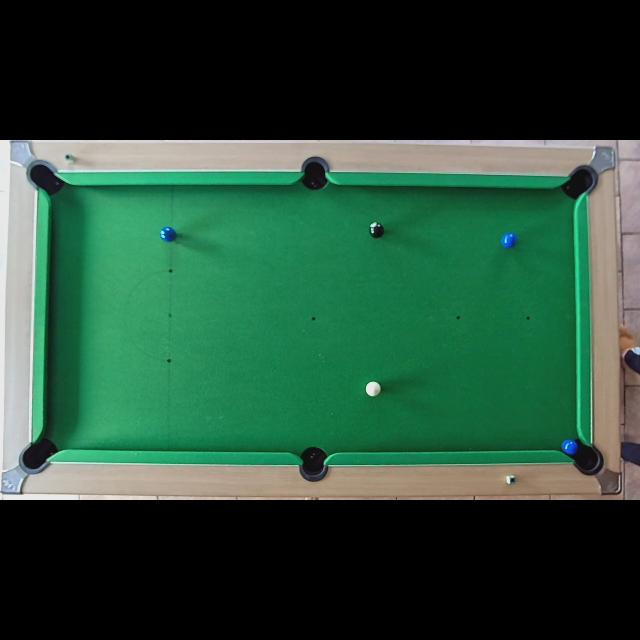Ball: (562, 439, 578, 456), (160, 226, 177, 242), (365, 381, 381, 397), (368, 222, 384, 238), (501, 233, 517, 249)
